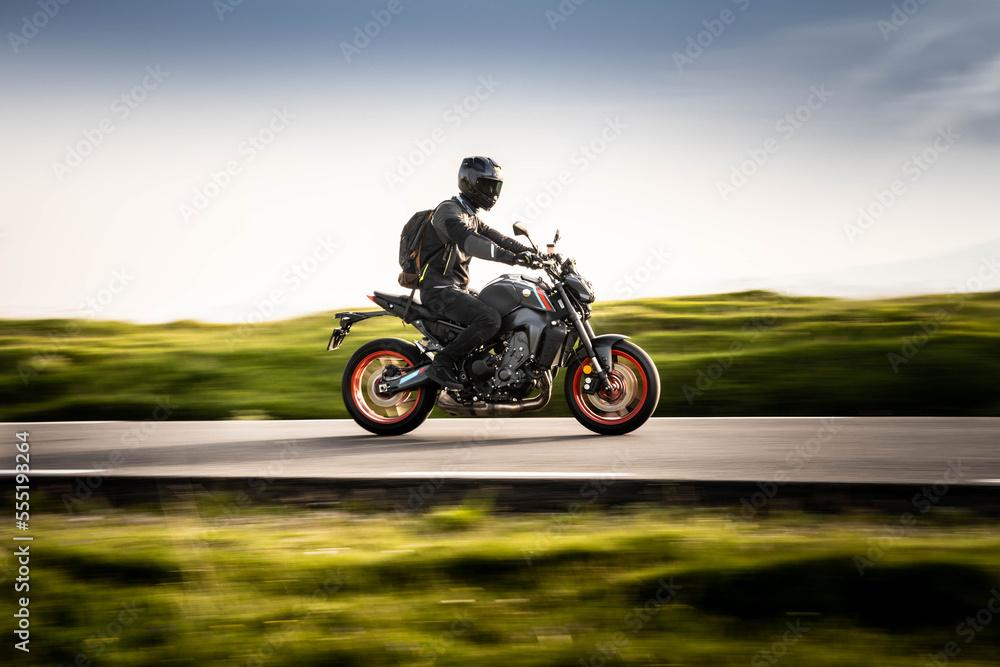helmet: (457, 155, 504, 212)
